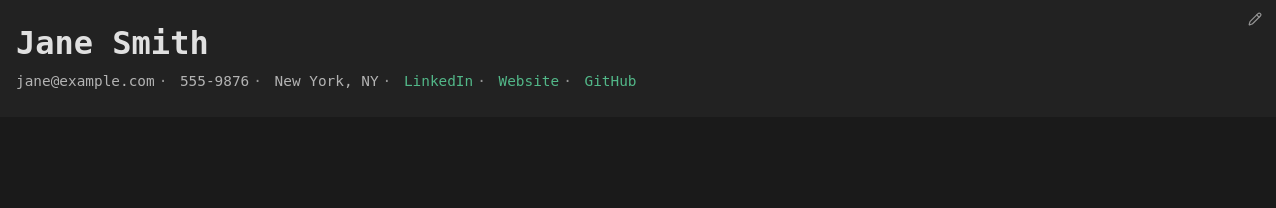
Scenario: ContactSection (edit mode) › toggles to edit mode when edit button is clicked
The image size is (1276, 208).
Click the button named "edit": (1255, 19) 1242,8 -> 1268,30
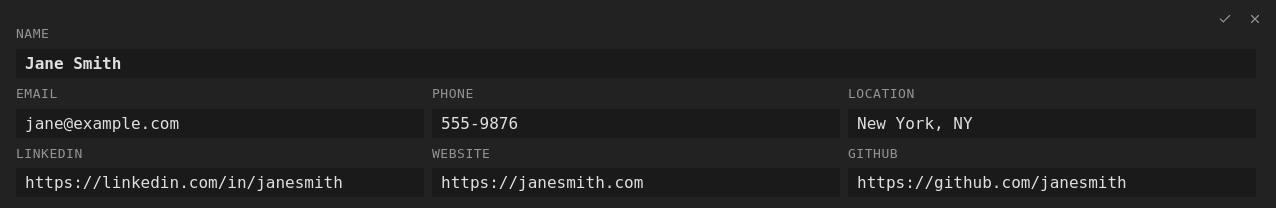
Expected: the field labelled "Name" is shown, 16,49 -> 1256,78
Expected: the field labelled "Email" is shown, 16,109 -> 424,138
Expected: the field labelled "Phone" is shown, 432,109 -> 840,138
